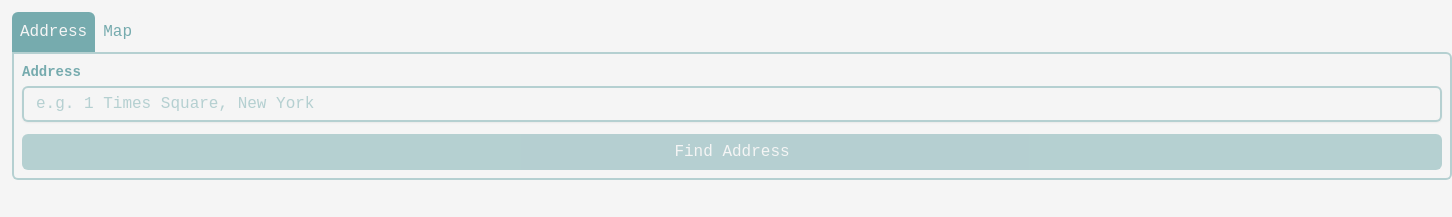
Test: LocationPicker address tab › shows an error when no addresses are found
Type "nowhere abc" into the field labelled "Address" at x=732, y=104, box [22, 86, 1442, 122]
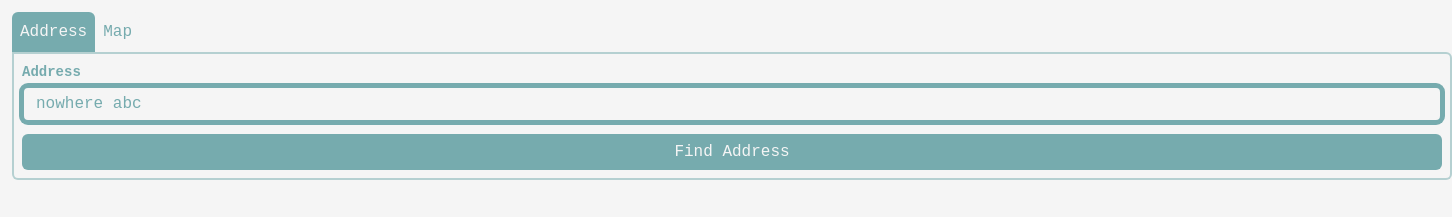
Click the button "Find Address" at x=732, y=152, box [22, 134, 1442, 170]
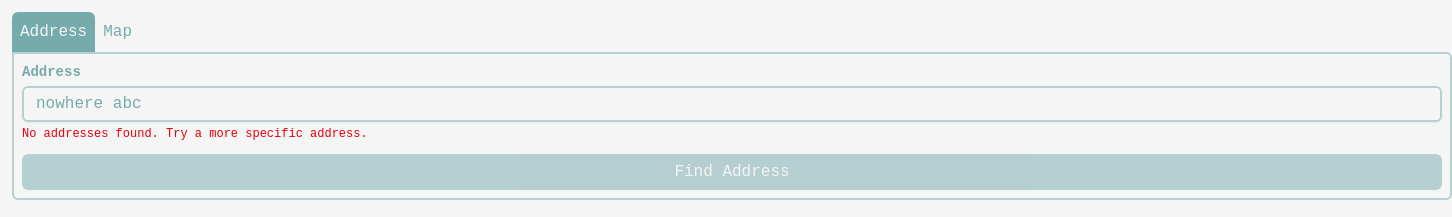
expect the message shows "No addresses found": met, box [22, 127, 368, 141]
